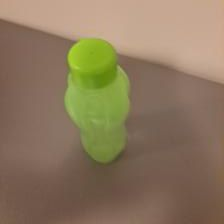bottle: (63, 32, 131, 164)
